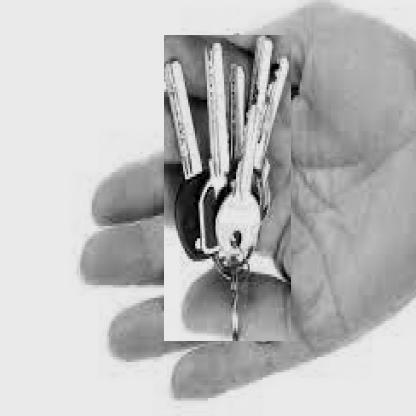key: (165, 36, 291, 341)
